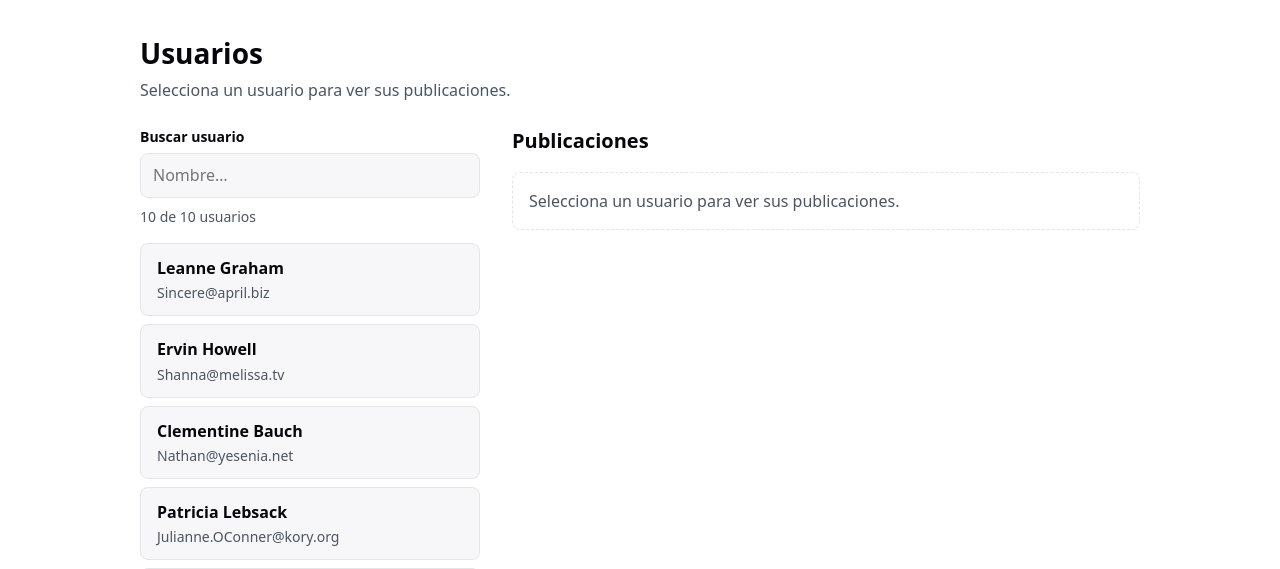
Test: formulario de publicación › muestra los dos errores y no envía nada si está vacío
This screenshot has width=1280, height=569.
Click the button "Leanne Graham Sincere@april.biz": click(220, 268) [140,243,480,316]
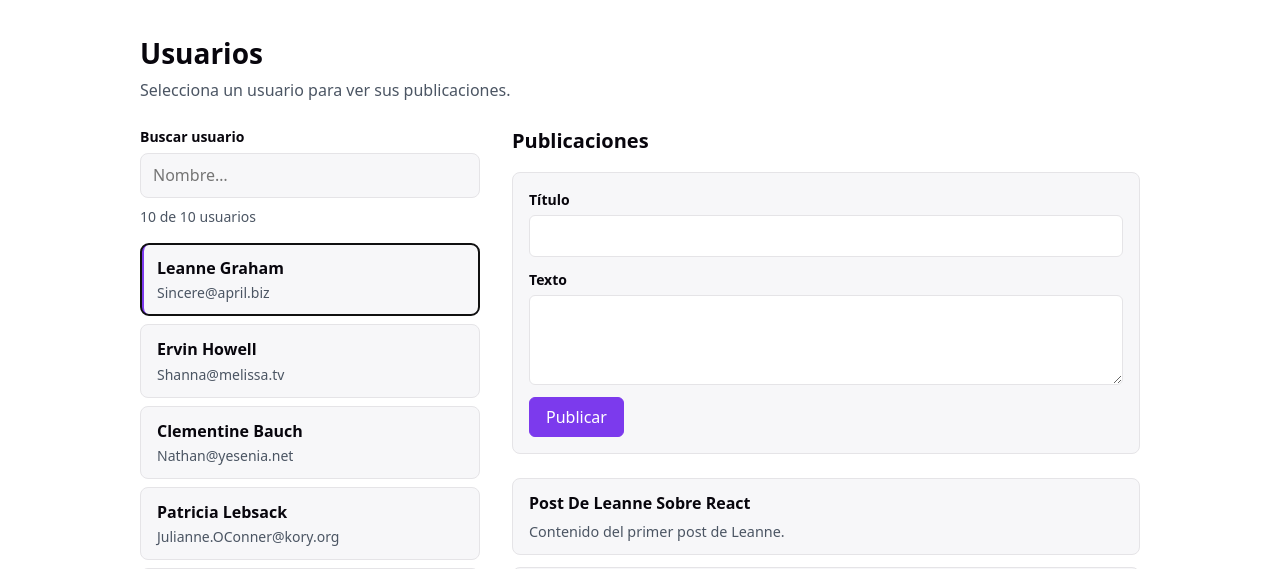
Now the heading "Post de Leanne sobre React" is shown, box [529,492,750,514]
Click the button "Publicar": click(576, 417) [529,397,624,437]
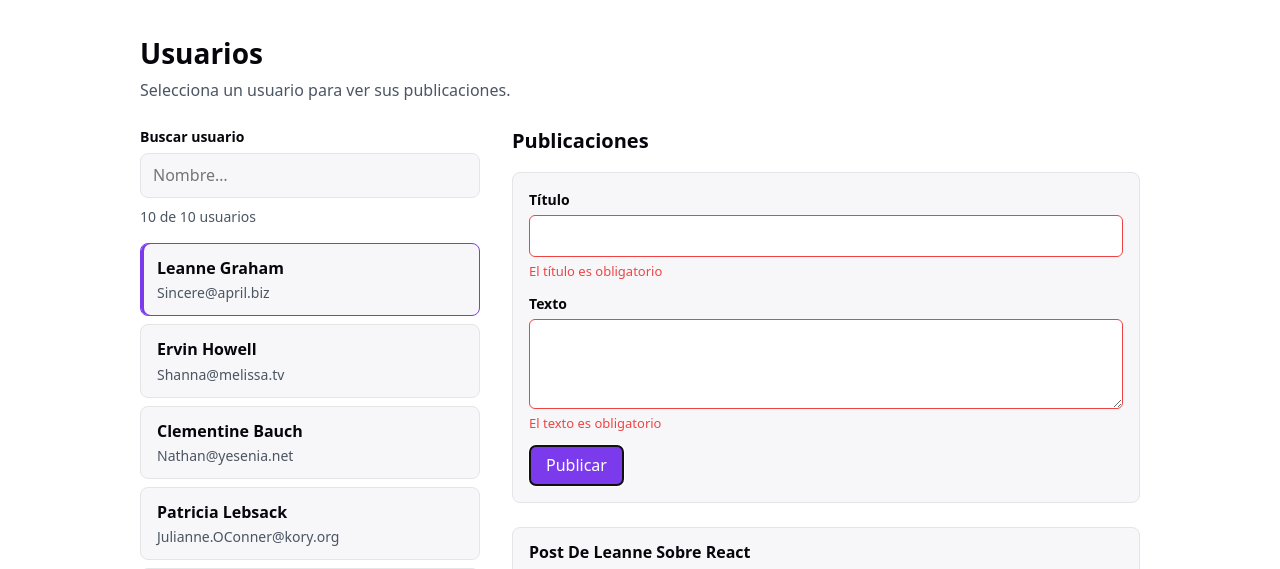
Now the text "El título es obligatorio" is shown, box [529,262,662,280]
Now the text "El texto es obligatorio" is shown, box [529,414,662,432]
